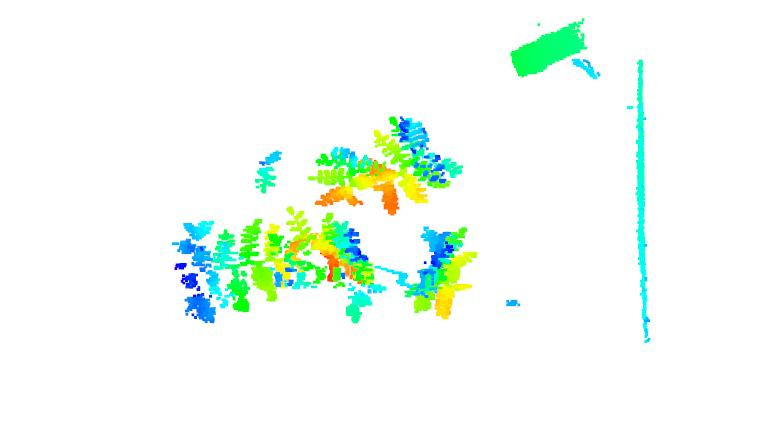chickpea: (169, 212, 291, 326), (372, 111, 467, 215), (336, 221, 396, 328), (411, 229, 473, 325), (315, 148, 401, 214), (290, 212, 341, 302), (246, 145, 297, 197)
